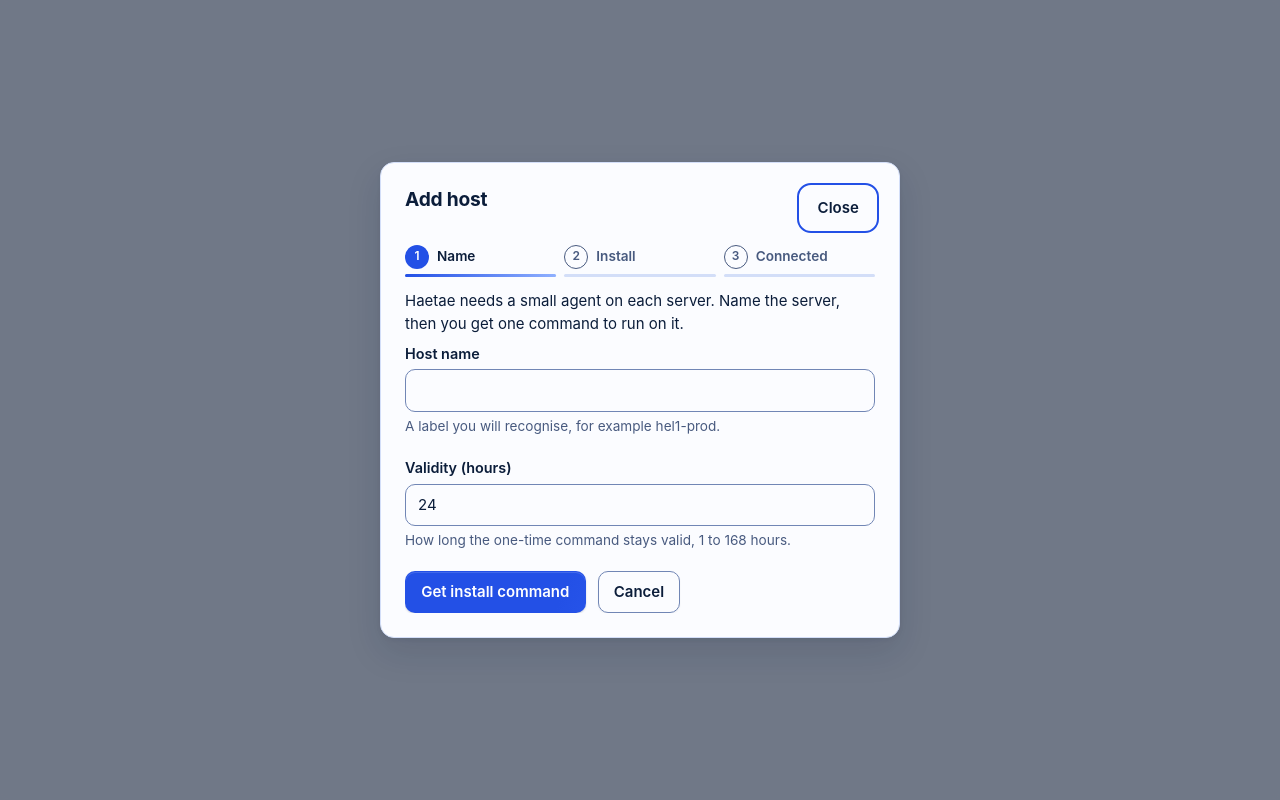
Test: AddHostDialog › shows the server error on a duplicate name and stays on step 1
The width and height of the screenshot is (1280, 800).
Type "new-host" into the field labelled "Host name" at [640, 391], box [405, 369, 875, 412]
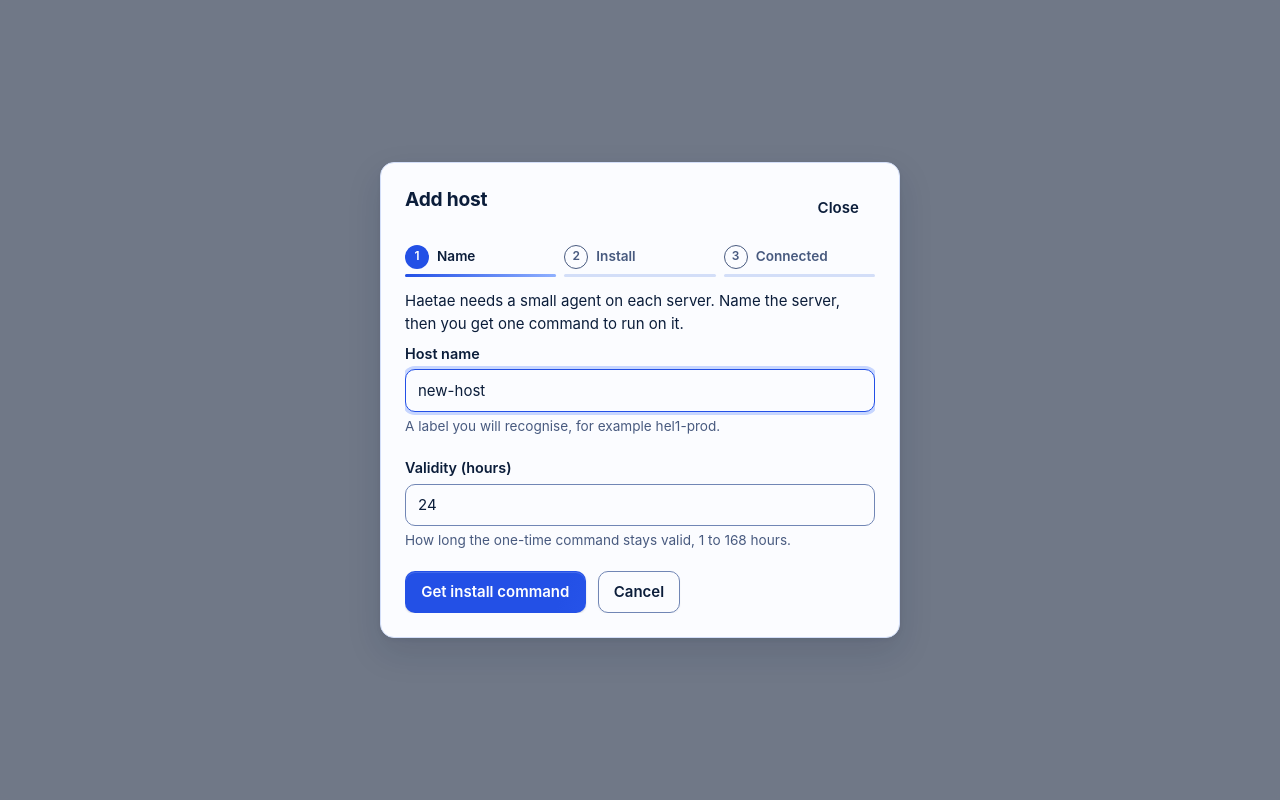
Click the button "Get install command" at [495, 592], box [405, 572, 586, 613]
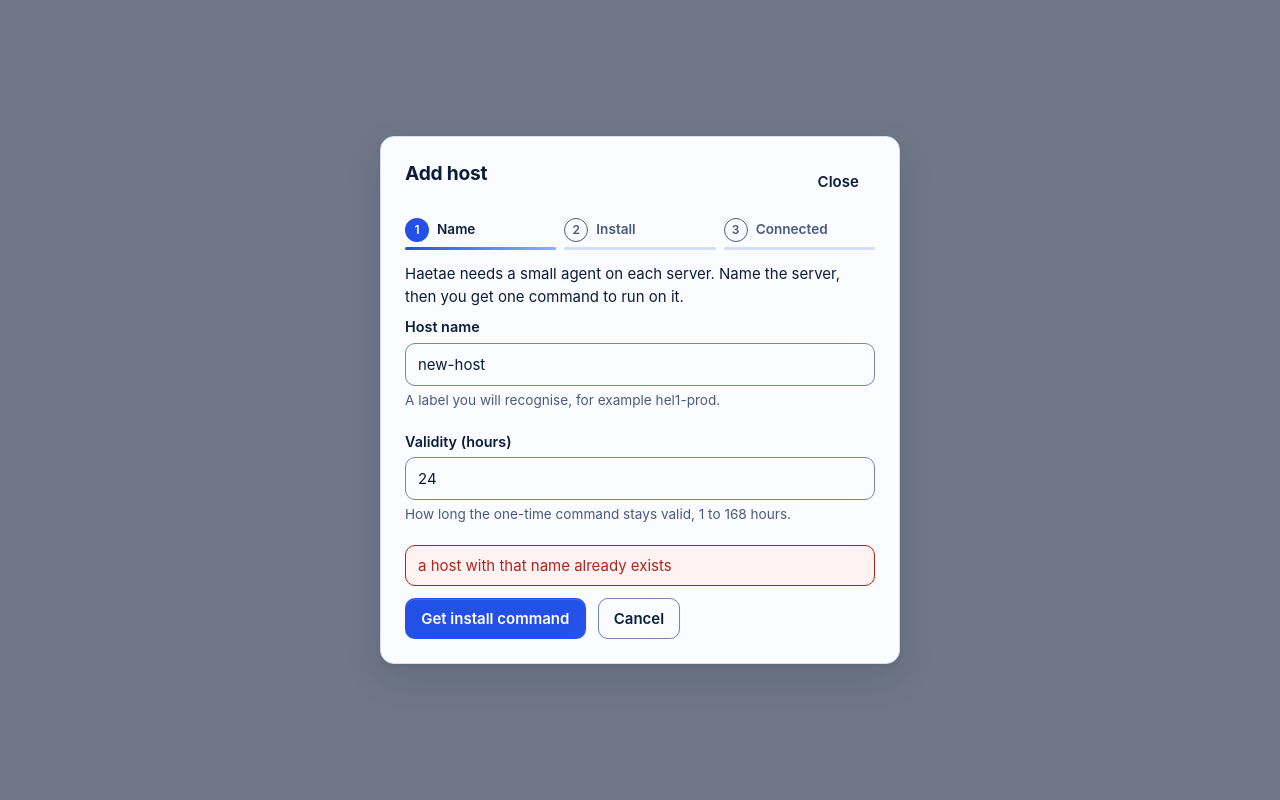
Expected: the message shows "already exists", [418, 556, 672, 575]
